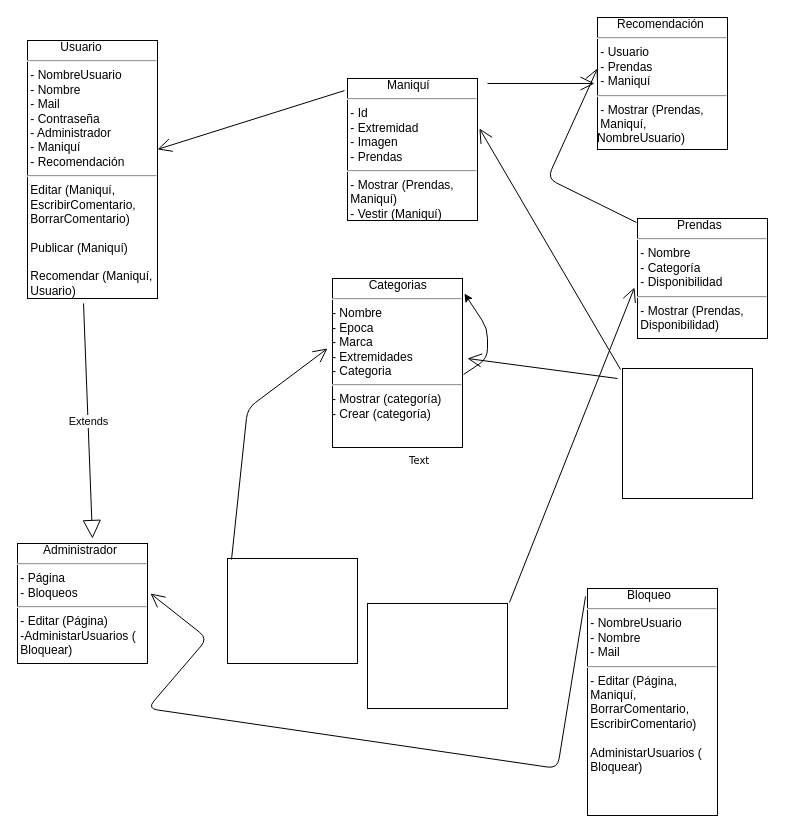
The diagram is 785 pixels wide and 833 high, and some of its shapes have lost their labels. The centre of each missing label's shape, as x and y in pixels:
Disponibilidad - Nombre - Cantidad - Mostrar (Cantidad, Nombre): point 437,655
Extremidades - Torso - Cabeza - Piernas - Pies1 - Pies2 - Mostrar (extremidades): point 687,433
Marca - Nombre - Id - Mostrar (id, Nombre): point 292,611
